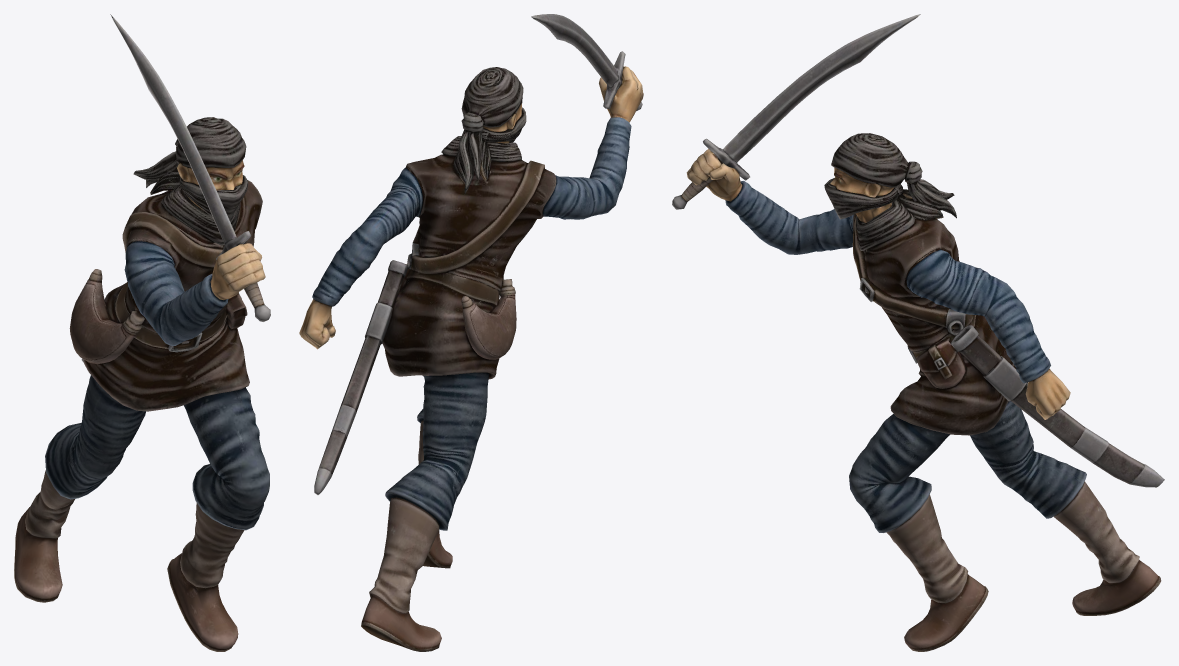
The model's file is MZ4250 - Bandit Male 02.glb.
The picture shows the model from 3 angles, left to right: view 1: azimuth 30°, elevation 25°; view 2: azimuth 150°, elevation 25°; view 3: azimuth 270°, elevation 25°; orthographic projection. The views are drawn at different scales.
Parts seen in each view (by area): view 1: BanditMale01; view 2: BanditMale01; view 3: BanditMale01.
Boxes of the visible parts, bbox=[...] form: BanditMale01: bbox=[14, 14, 270, 651]; BanditMale01: bbox=[299, 14, 643, 651]; BanditMale01: bbox=[672, 14, 1164, 651].
Bounding box in the file's own units: 0.4241 × 1.24 × 0.9457.
1 material, 1 textured.
